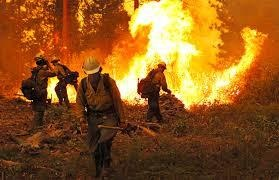fire: (109, 0, 267, 109), (42, 74, 73, 103)
